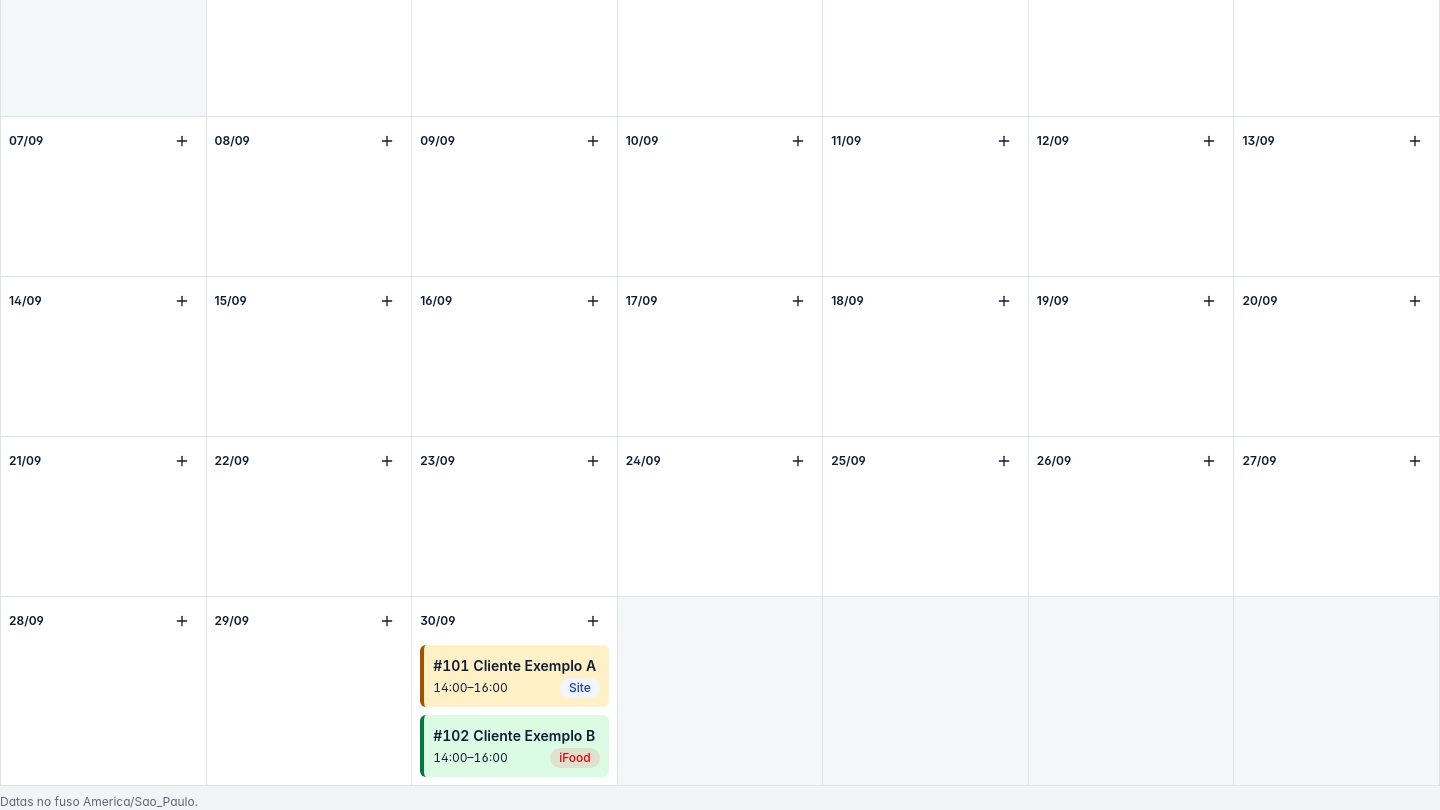
Interface do gestor de pedidos › mostra orçamento destacado e confirmado juntos em calendario, sem liberar produção do orçamento
The image size is (1440, 810).
(page scrolled)
Expected: the button with aria-label "Expandir pedido #102" is shown, top-left (432, 725), bottom-right (601, 769)
Expected: the element named "Expandir pedido #101" is shown, top-left (420, 645), bottom-right (609, 707)
Click the button with aria-label "Expandir pedido #101". click: (516,677)
box: top-left (432, 655), bottom-right (601, 699)
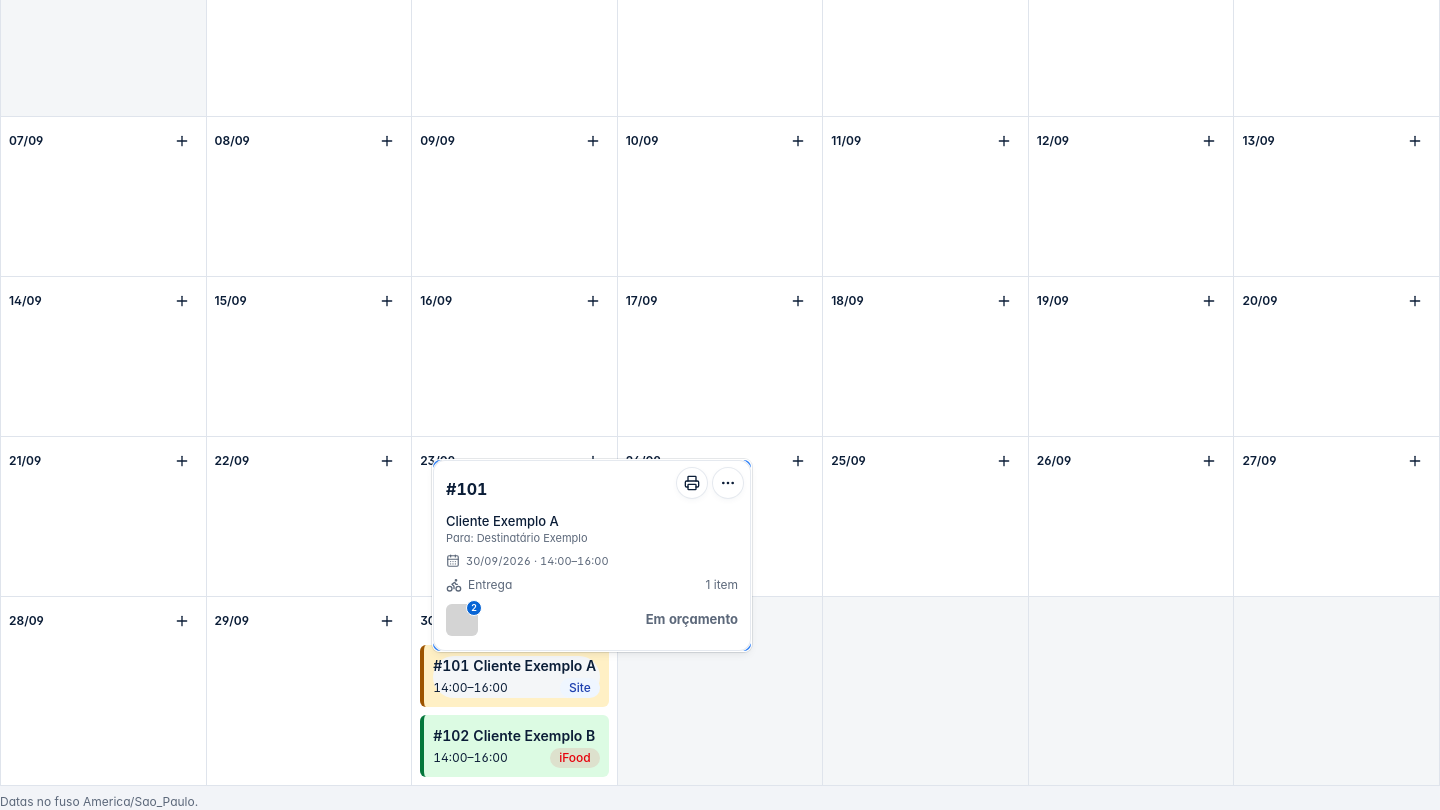
Result: the element "#101" is shown at top-left (433, 460), bottom-right (751, 650)
Result: the text "Em orçamento" is shown at top-left (646, 611), bottom-right (738, 627)
